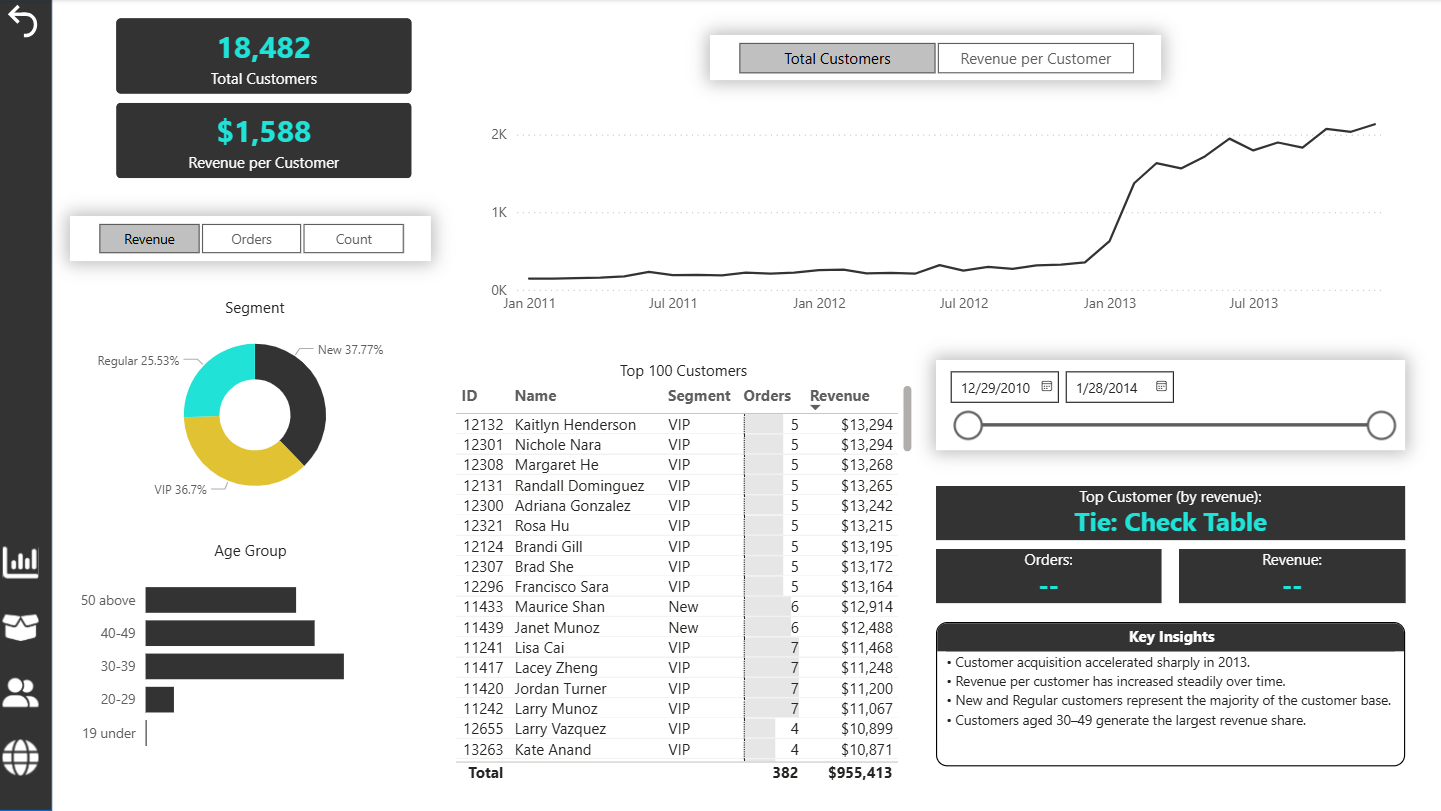

What the dashboard file says about the page in this screenshot:
{"tool":"powerbi","page":{"name":"Customer Dashboard","canvas":[1280,720],"ordinal":2},"visuals":[{"type":"shape","box":[0,0,48,720],"z":0},{"type":"cardVisual","fields":{"Data":["Measure Table.Total Customers","Measure Table.Revenue per Customer"]},"box":[88,0,296,176],"z":1000},{"type":"actionButton","box":[0,480,48.2,40],"z":1000,"group":"g1"},{"type":"lineChart","fields":{"Category":["dim_calendar.Date Hierarchy.Start of Year","dim_calendar.Date Hierarchy.Start of Quarter","dim_calendar.Date Hierarchy.Start of Month","dim_calendar.Date Hierarchy.Start of Week"],"Y":["Measure Table.Total Customers"]},"box":[432,72,816,216],"z":2000},{"type":"slicer","fields":{"Values":["Customer Metric Selection.Customer Metric Selection"]},"box":[631.5,31.9,400.1,39.9],"z":3000},{"type":"clusteredBarChart","title":"Age Group","fields":{"Category":["fact_sales.age_roup"],"Y":["Measure Table.Total Revenue"]},"box":[64,480,320,200],"z":4000},{"type":"actionButton","box":[0.1,537.4,48,40.3],"z":4000,"group":"g1"},{"type":"donutChart","title":"Segment","fields":{"Category":["dim_customers.customer_segment"],"Y":["Measure Table.Total Revenue"]},"box":[72,264,312,192],"z":5000},{"type":"actionButton","box":[0,595.2,48.2,40],"z":5000,"group":"g1"},{"type":"slicer","fields":{"Values":["Segment Metric Selection.Segment Metric Selection"]},"box":[64,192,320,40],"z":6000},{"type":"tableEx","title":"Top 100 Customers","fields":{"Values":["dim_customers.customer_id","dim_customers.full_name","dim_customers.customer_segment","Measure Table.Total Orders","Measure Table.Total Revenue"]},"box":[400.1,320.2,416,379.1],"z":7000},{"type":"card","title":"Top Customer (by revenue):","fields":{"Values":["Measure Table.Full Name (Customer Detail)"]},"box":[832,432,416,48],"z":8000},{"type":"card","title":"Orders:","fields":{"Values":["Measure Table.Total Order (Customer Detail)"]},"box":[832,487.9,199.5,47.9],"z":9000},{"type":"card","title":"Revenue:","fields":{"Values":["Measure Table.Total Revenue (Customer Detail)"]},"box":[1047.5,487.9,200.5,47.9],"z":10000},{"type":"slicer","fields":{"Values":["dim_calendar.Date"]},"box":[832,320,416,80],"z":11000},{"type":"textbox","title":"Key Insights","box":[832,552,416,128],"z":12000},{"type":"actionButton","box":[2.4,0,45.8,38.8],"z":13000},{"type":"group","id":"g1","title":"Navigation Buttons","box":[0,480,48.2,212.5],"z":14000},{"type":"actionButton","box":[0.1,652.6,47.9,39.9],"z":17000,"group":"g1"}]}

Visuals, with their boxes on the page's 1280x720 design canvas (x1, y1, x2, y2). These are canvas units, not pixel positions in the 1441x811 screenshot, which may show the page scaled, cropped or inside an application window:
shape: detection(0, 0, 48, 720)
cardVisual - Measure Table.Total Customers x Measure Table.Revenue per Customer: detection(88, 0, 384, 176)
actionButton: detection(0, 480, 48, 520)
lineChart - dim_calendar.Date Hierarchy.Start of Year x dim_calendar.Date Hierarchy.Start of Quarter: detection(432, 72, 1248, 288)
slicer - Customer Metric Selection.Customer Metric Selection: detection(632, 32, 1032, 72)
"Age Group" clusteredBarChart: detection(64, 480, 384, 680)
actionButton: detection(0, 537, 48, 578)
"Segment" donutChart: detection(72, 264, 384, 456)
actionButton: detection(0, 595, 48, 635)
slicer - Segment Metric Selection.Segment Metric Selection: detection(64, 192, 384, 232)
"Top 100 Customers" tableEx: detection(400, 320, 816, 699)
"Top Customer (by revenue):" card: detection(832, 432, 1248, 480)
"Orders:" card: detection(832, 488, 1032, 536)
"Revenue:" card: detection(1048, 488, 1248, 536)
slicer - dim_calendar.Date: detection(832, 320, 1248, 400)
"Key Insights" textbox: detection(832, 552, 1248, 680)
actionButton: detection(2, 0, 48, 39)
"Navigation Buttons" group: detection(0, 480, 48, 692)
actionButton: detection(0, 653, 48, 692)
